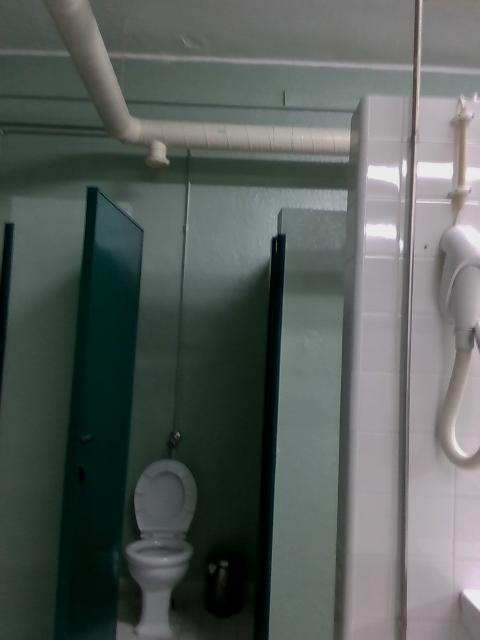open_door: (119, 203, 282, 639)
